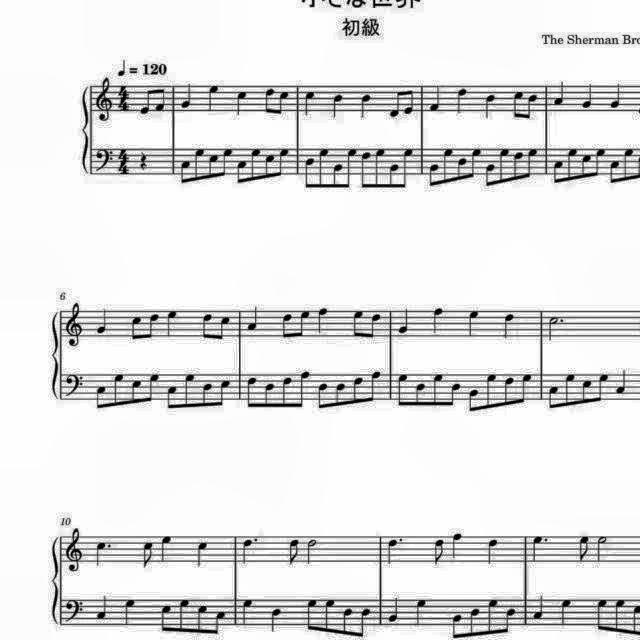Bass-clef: (64, 368, 88, 399), (92, 147, 116, 176), (64, 594, 88, 622)
Eighth-note: (374, 148, 390, 192), (316, 144, 332, 188), (622, 146, 640, 184), (485, 597, 501, 639), (138, 538, 156, 574), (321, 596, 337, 636), (176, 597, 192, 637), (614, 598, 630, 638), (442, 146, 458, 186), (304, 594, 320, 634), (298, 368, 314, 408), (484, 372, 500, 411), (401, 146, 415, 190), (110, 370, 126, 408), (396, 370, 412, 408), (591, 597, 607, 635), (190, 146, 206, 184), (358, 149, 372, 191), (194, 602, 210, 638), (94, 378, 110, 414), (156, 602, 172, 638), (262, 84, 280, 116), (366, 368, 382, 404), (511, 86, 527, 122), (429, 534, 447, 566), (248, 145, 264, 181), (576, 532, 594, 564), (244, 374, 260, 410), (564, 146, 580, 182), (182, 370, 196, 410), (497, 144, 511, 184), (500, 374, 516, 408), (340, 606, 356, 640), (466, 145, 482, 179), (357, 605, 373, 639), (562, 371, 578, 405), (279, 374, 295, 408), (128, 314, 146, 344), (284, 537, 302, 567), (430, 370, 444, 408), (146, 371, 162, 404), (524, 147, 540, 180), (350, 374, 366, 406), (502, 606, 518, 638), (276, 146, 292, 178), (200, 310, 216, 342), (216, 376, 232, 408), (350, 306, 366, 338), (138, 86, 154, 118), (524, 90, 540, 122), (218, 146, 234, 178), (146, 312, 162, 344), (592, 148, 608, 180), (520, 372, 536, 404), (346, 147, 358, 189), (402, 85, 418, 116), (314, 381, 330, 412), (296, 308, 312, 339), (468, 607, 483, 640), (212, 609, 228, 639), (366, 311, 382, 341), (278, 310, 294, 340), (386, 84, 400, 118), (513, 149, 527, 183), (303, 155, 317, 189), (200, 379, 216, 408), (276, 89, 292, 118), (334, 379, 350, 407), (448, 612, 464, 640), (448, 380, 464, 408), (164, 383, 180, 411), (580, 377, 596, 405), (216, 314, 232, 342), (332, 162, 348, 190), (546, 382, 562, 410), (130, 376, 144, 406), (155, 84, 169, 114), (596, 371, 610, 401), (262, 381, 278, 407), (206, 152, 220, 180), (387, 162, 401, 190), (235, 159, 249, 187), (484, 162, 498, 190), (414, 380, 428, 408), (607, 158, 621, 186), (427, 162, 441, 190), (177, 158, 191, 186), (552, 158, 566, 186), (630, 600, 640, 638), (469, 384, 483, 411), (456, 154, 468, 182), (264, 152, 276, 180), (582, 154, 594, 182)
Half-dot: (544, 313, 566, 343)
Half-note: (304, 537, 320, 567), (594, 534, 610, 564)
Quarter-dot: (528, 531, 552, 569), (90, 540, 114, 572), (238, 536, 262, 568), (384, 536, 406, 568)
Quarter-note: (498, 308, 518, 339), (463, 306, 482, 338), (484, 537, 504, 567), (205, 82, 223, 114), (93, 306, 111, 338), (557, 596, 575, 628), (121, 594, 139, 626), (158, 532, 176, 564), (268, 606, 286, 636), (413, 596, 431, 626), (606, 81, 624, 111), (194, 539, 212, 569), (394, 306, 412, 336), (239, 596, 257, 626), (428, 304, 446, 334), (163, 307, 180, 338), (454, 84, 470, 116), (245, 304, 262, 334), (356, 91, 374, 119), (426, 81, 442, 112), (386, 594, 402, 624), (178, 81, 194, 111), (96, 593, 112, 623), (314, 306, 330, 336), (450, 530, 466, 560), (233, 88, 250, 116), (616, 368, 632, 397), (552, 80, 568, 108), (579, 82, 595, 110), (328, 92, 344, 120), (303, 90, 319, 118), (482, 92, 498, 120), (530, 594, 546, 620), (635, 89, 640, 118), (639, 89, 640, 118)
Quarter-rest: (136, 150, 152, 173)
Treble-clef: (64, 526, 88, 576), (64, 299, 88, 349), (95, 76, 116, 124)
